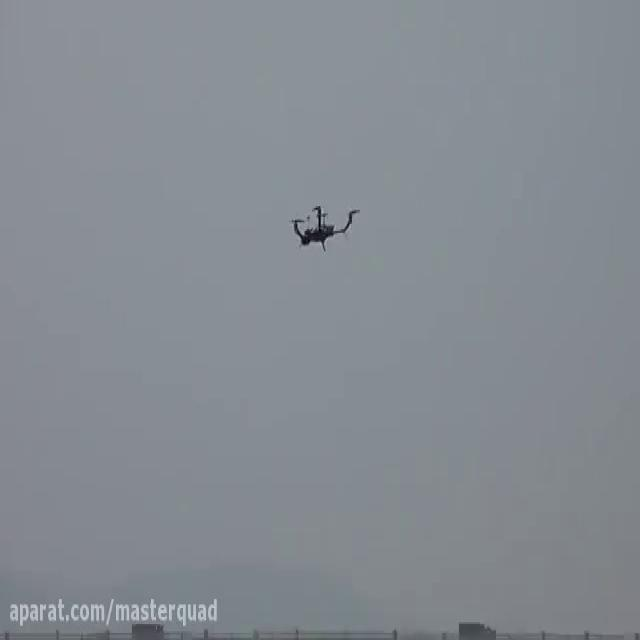drone: (287, 192, 363, 252)
